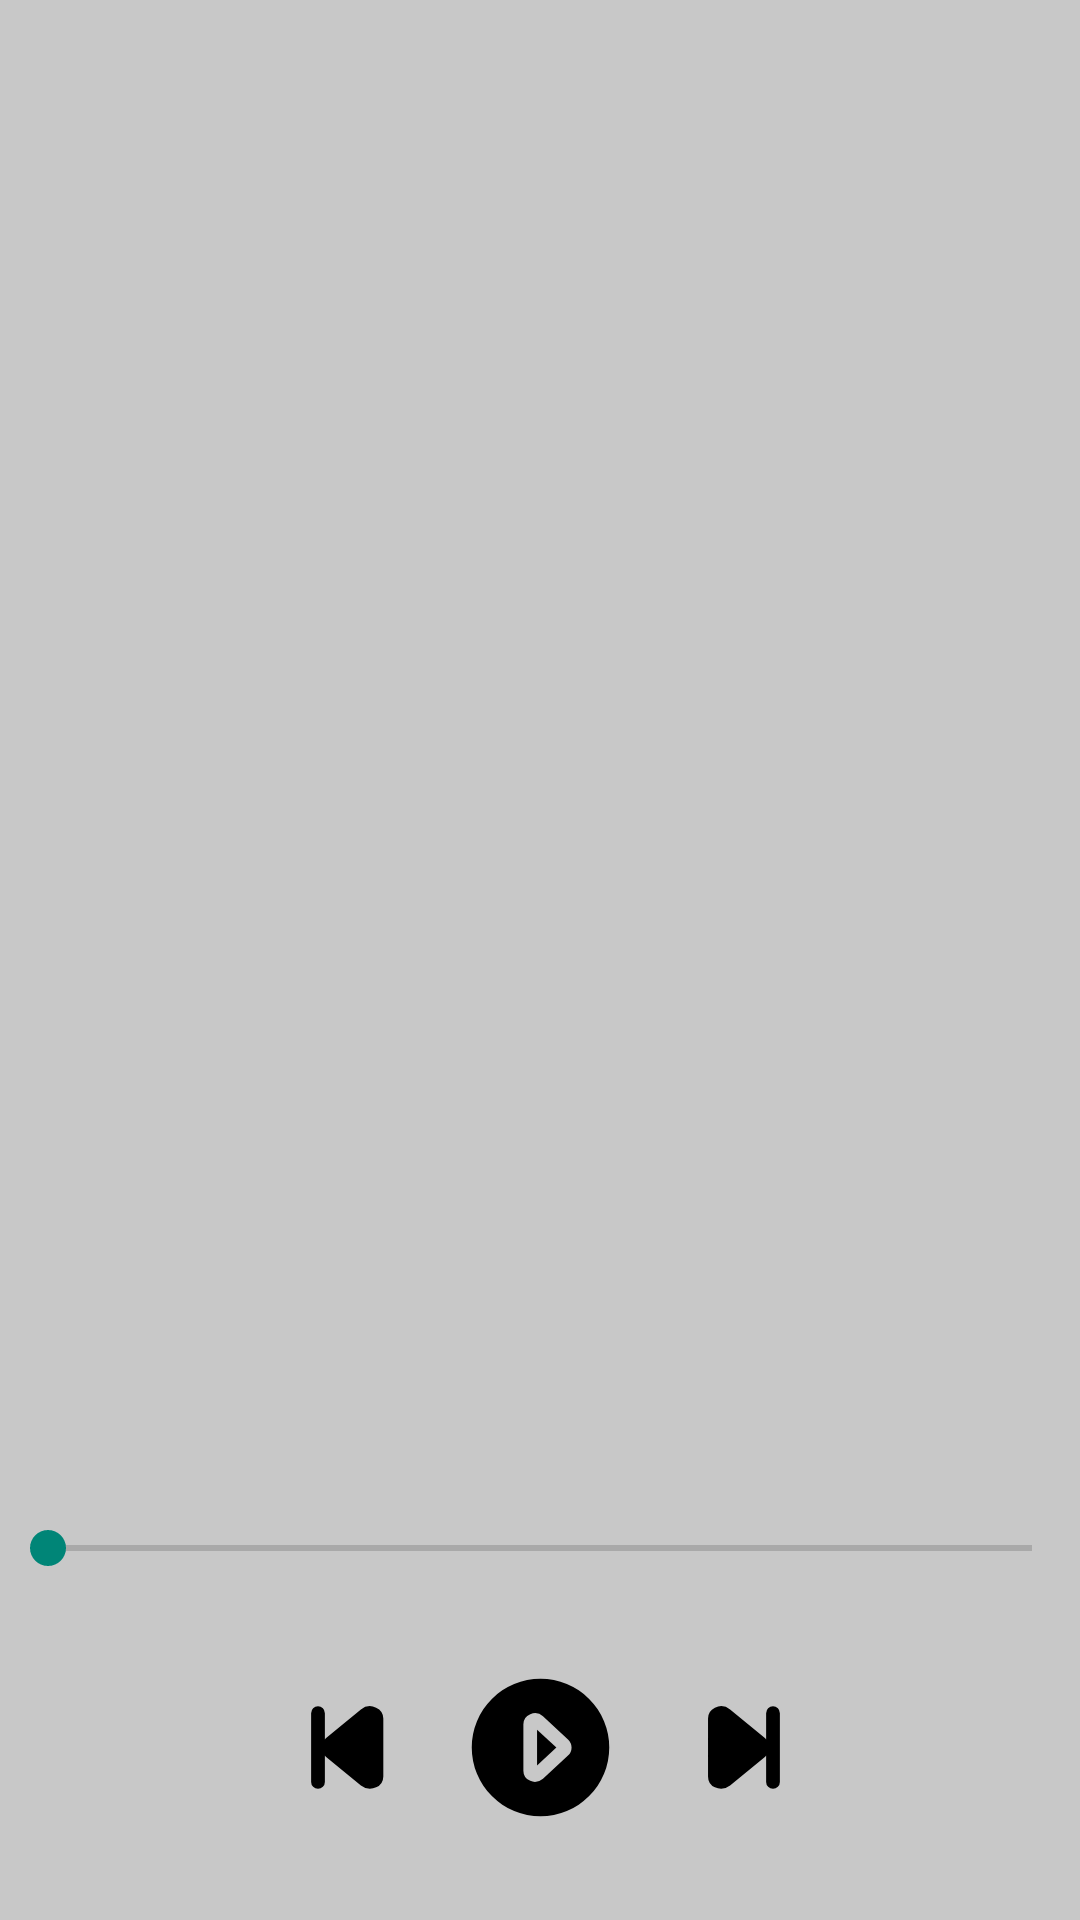

Named icons in this screenshot (1080×1920) and their bounding boxes, (x1, y1, x2, y2):
back: (311, 1706, 384, 1789)
play: (471, 1678, 610, 1817)
skip: (708, 1706, 780, 1789)
